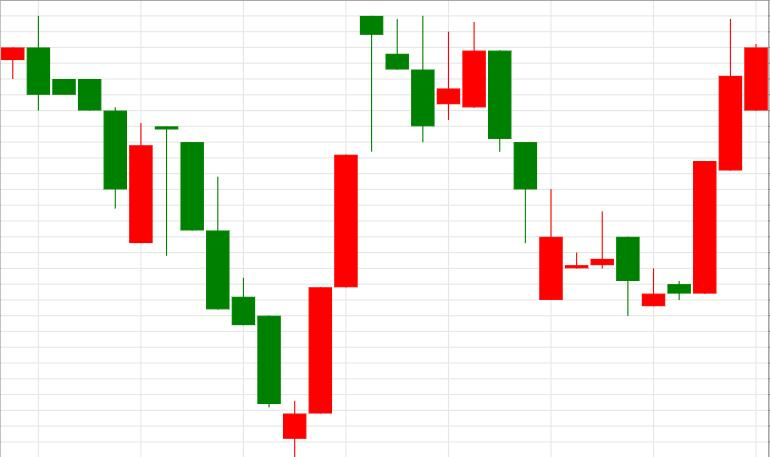three_white_soldiers_rise: (155, 126, 358, 456)
